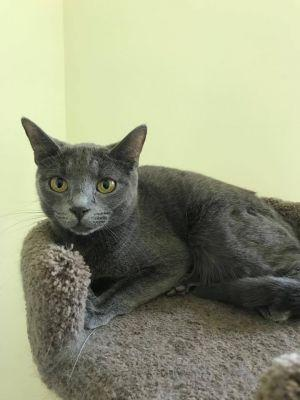rblue: (23, 109, 159, 263)
